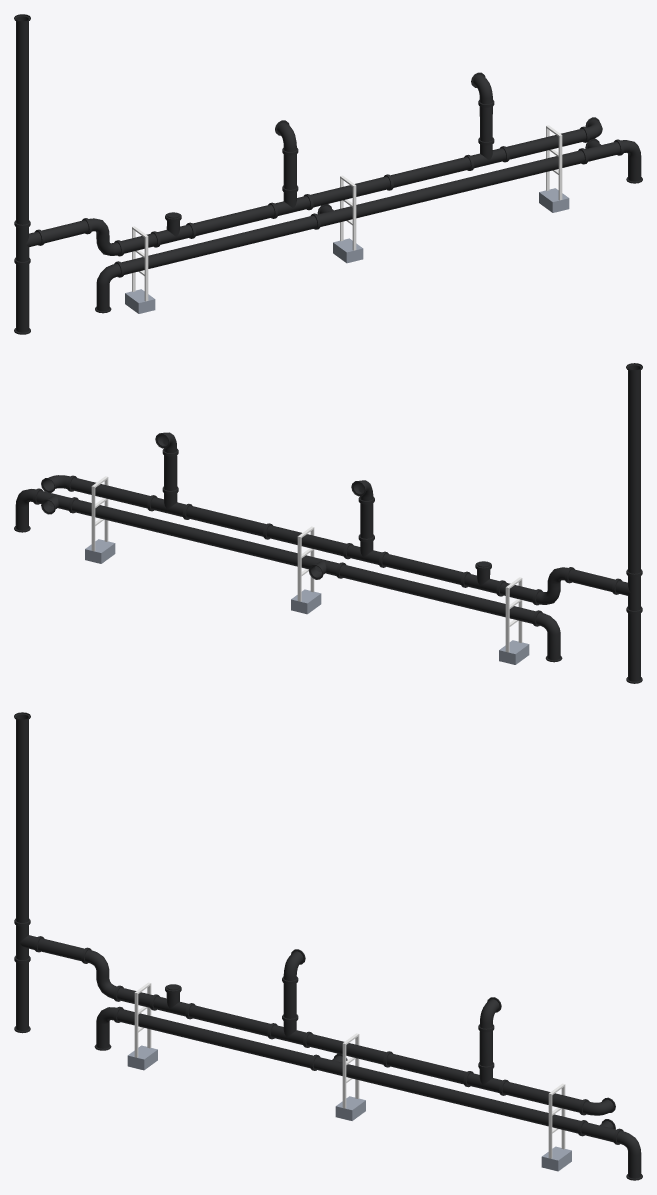
The model's file is SM_H_Building_Tide_Jail_B_01_Pipeline_06_ATLAS.fbx.
3 renders of one model, top to bottom at view 1: azimuth 30°, elevation 25°; view 2: azimuth 150°, elevation 25°; view 3: azimuth 330°, elevation 25°, orthographic.
Visible parts, largest first — view 1: SM_H_Building_Tide_Jail_B_01_Pipeline_06_ATLAS; view 2: SM_H_Building_Tide_Jail_B_01_Pipeline_06_ATLAS; view 3: SM_H_Building_Tide_Jail_B_01_Pipeline_06_ATLAS.
Boxes of the visible parts, bbox=[...] form: SM_H_Building_Tide_Jail_B_01_Pipeline_06_ATLAS: bbox=[14, 14, 642, 334]; SM_H_Building_Tide_Jail_B_01_Pipeline_06_ATLAS: bbox=[14, 363, 642, 683]; SM_H_Building_Tide_Jail_B_01_Pipeline_06_ATLAS: bbox=[14, 712, 642, 1180].
Size of the model in its own units: 1016 by 38.75 by 495.
